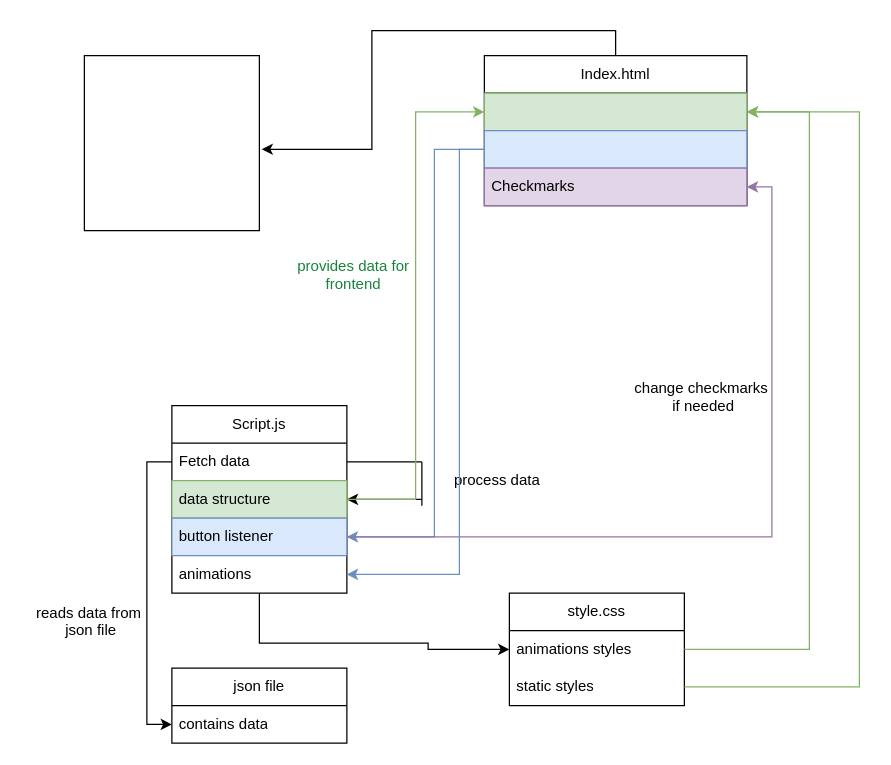
This 891x765 diagram has some shape labels left out. Here are the shapes that lost their labels. From the top down, the centre of each, then its label:
the point at 615,111: Divs displaying data
the point at 171,142: Userview
the point at 615,148: Buttons
